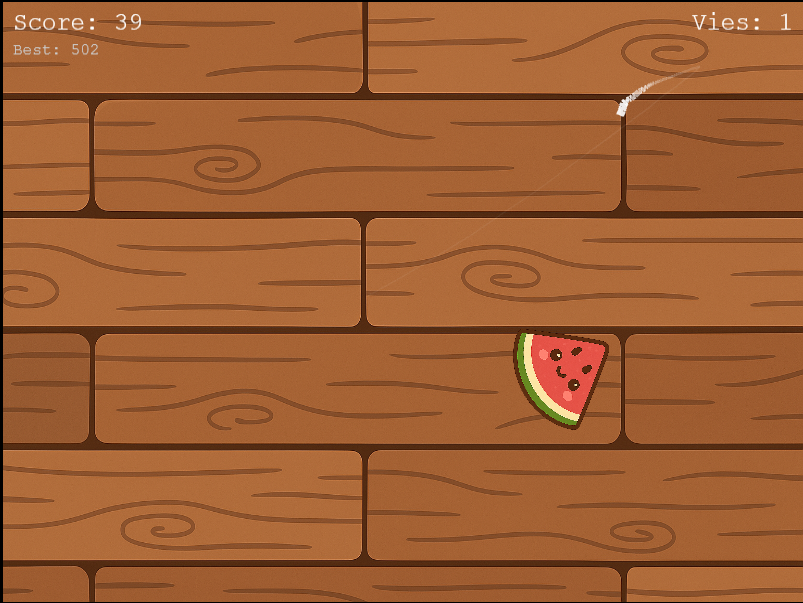fruit: (508, 322, 614, 431)
